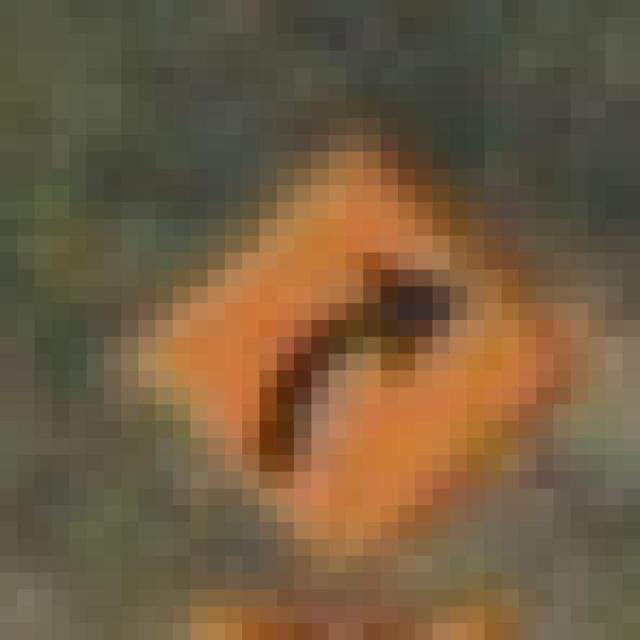Tikungan Ke Kanan: (86, 67, 571, 573)
